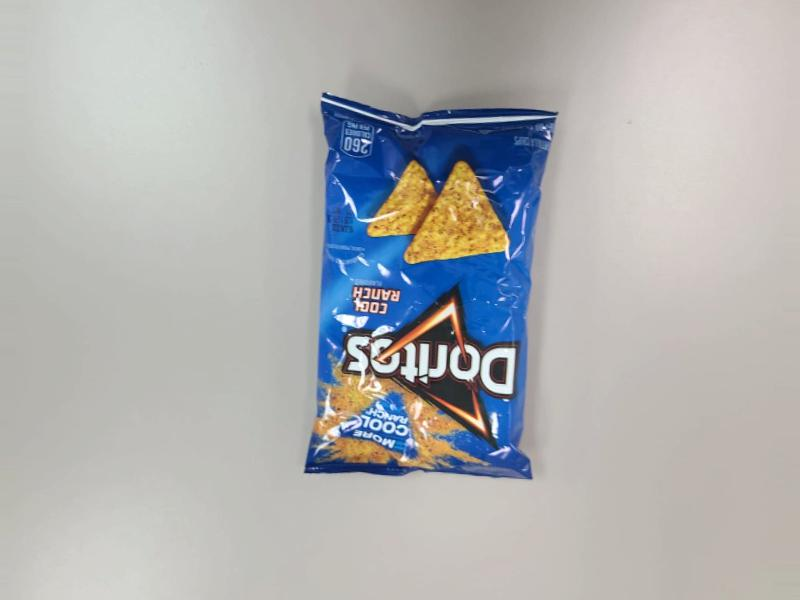doritos: (302, 93, 549, 480)
